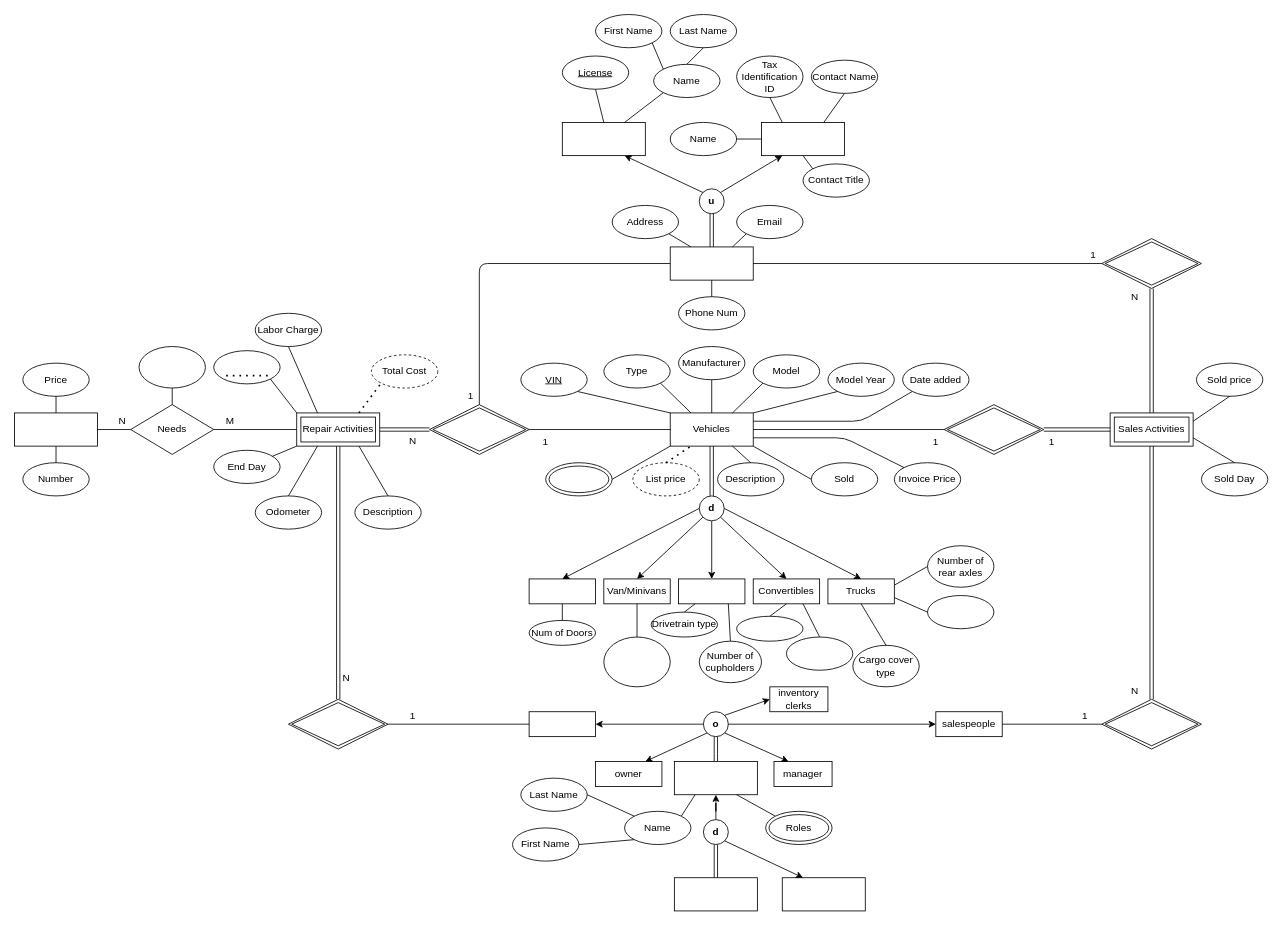
The diagram is 1282 pixels wide and 925 high, and some of its shapes have lost their labels. The centre of each missing label's shape, as x and y in pixels:
"Anonymous users" belongs at (823,894).
"Back seat count" belongs at (819,653).
"Business" belongs at (803,139).
"Buys" belongs at (1151,263).
"Cargo capacity" belongs at (960,612).
"Cars" belongs at (562,591).
"Color" belongs at (578,479).
"Customers" belongs at (711,263).
"Files" belongs at (338,723).
"Get repair" belongs at (479,429).
"Get sold in" belongs at (993,429).
"Has Driver’s Side Back Door" belongs at (636,661).
"Logged-in users" belongs at (715,778).
"Parts" belongs at (56,429).
"Person" belongs at (603,139).
"Quantity used" belongs at (171,367).
"Roof type" belongs at (769,628).
"Sells and Files" belongs at (1151,723).
"service writer" belongs at (562,724).
"Start Date" belongs at (246,367).
"SUVs" belongs at (711,591).
"Users" belongs at (715,894).
